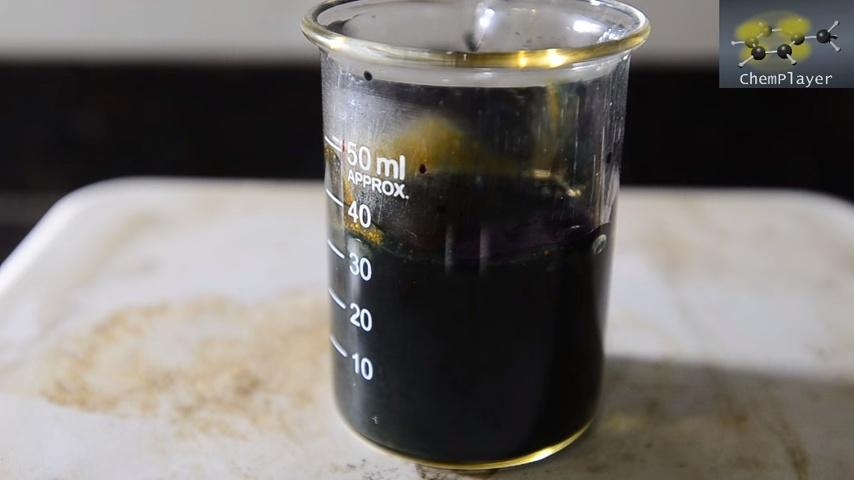Beaker: (297, 3, 640, 467)
